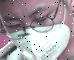with_mask: (1, 2, 74, 60)
